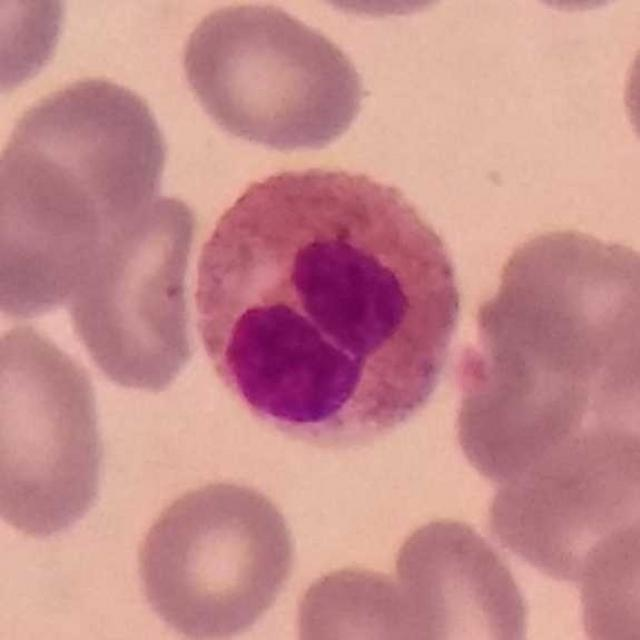Eosinophil: (186, 157, 462, 457)
Platelets: (452, 350, 494, 397)
RBC: (174, 0, 373, 159), (62, 185, 206, 397), (129, 472, 302, 640), (0, 69, 176, 228), (473, 219, 640, 380), (483, 420, 640, 586), (0, 318, 115, 543), (382, 510, 538, 640), (0, 142, 109, 323), (286, 556, 449, 640), (572, 501, 640, 640), (0, 0, 76, 100), (279, 0, 474, 24), (614, 9, 640, 177), (496, 0, 640, 18)
